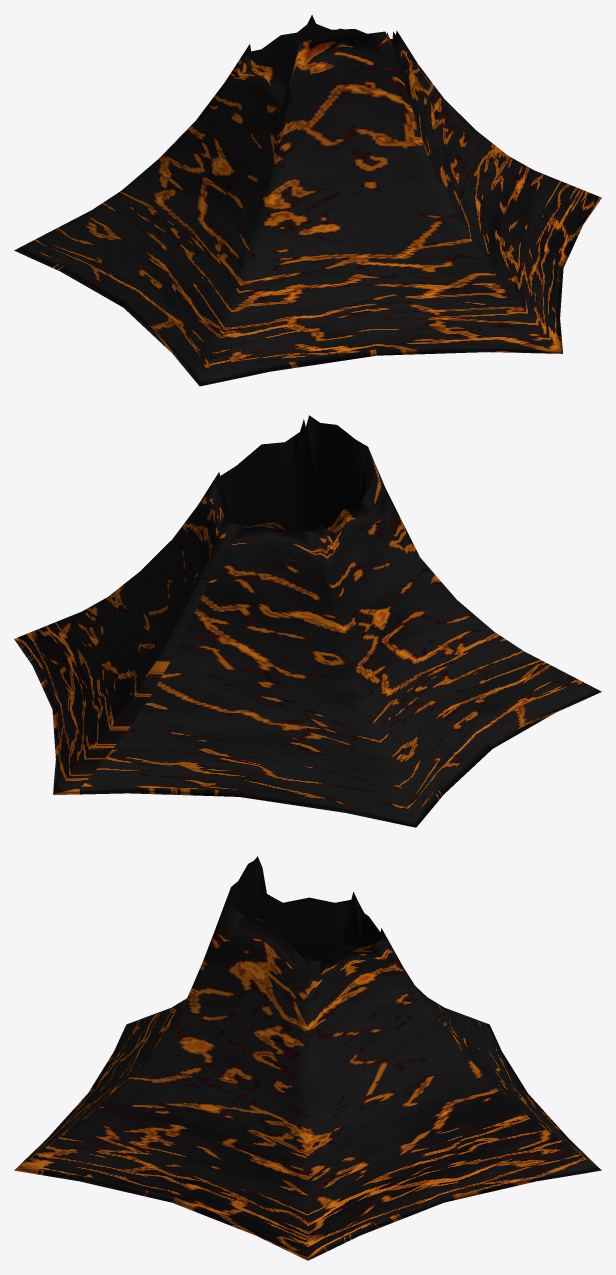
File: Volcano.fbx
3 renders of one model, top to bottom at view 1: azimuth 30°, elevation 25°; view 2: azimuth 150°, elevation 25°; view 3: azimuth 270°, elevation 25°, orthographic. The views are drawn at different scales.
Visible parts, largest first — view 1: Volcano; view 2: Volcano; view 3: Volcano.
Part boxes in pixels (x1=…): Volcano: x1=14, y1=15, x2=601, y2=386; Volcano: x1=14, y1=415, x2=601, y2=827; Volcano: x1=14, y1=856, x2=601, y2=1260.
Bounding box in the file's own units: 22.98 × 11.67 × 24.17.
